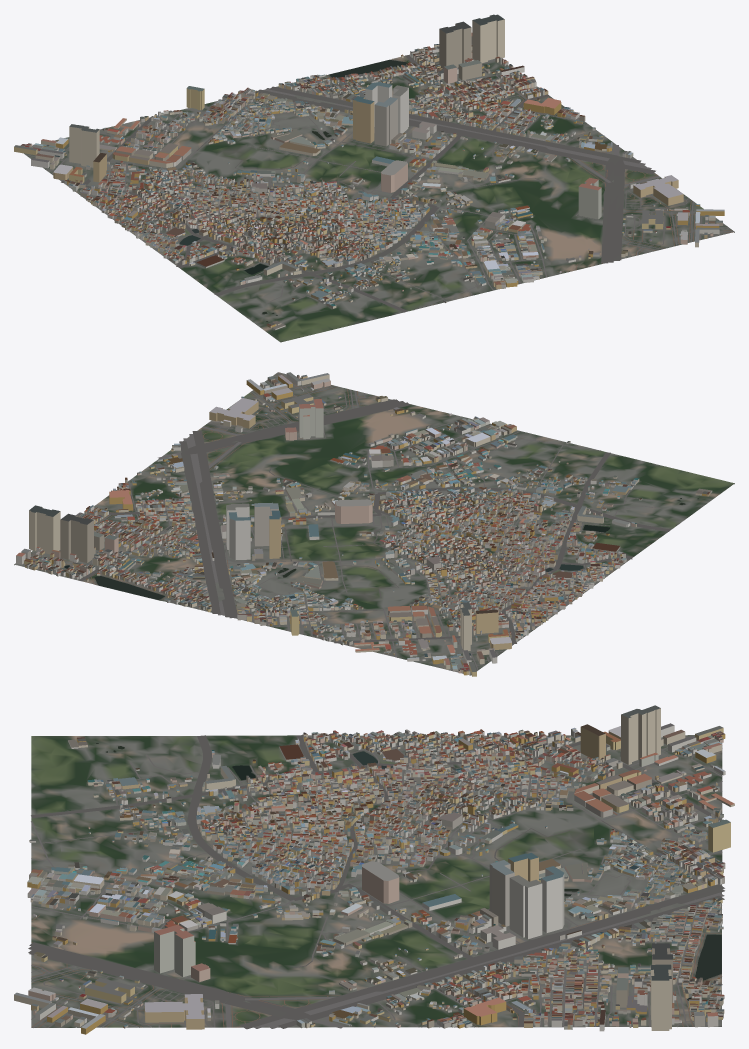
3 views of the same model, one above another, from view 1: azimuth 30°, elevation 25°; view 2: azimuth 150°, elevation 25°; view 3: azimuth 270°, elevation 25° (orthographic). The views are drawn at different scales.
Parts seen in each view (by area): view 1: buildings, ground, roads, water; view 2: buildings, ground, roads, water; view 3: buildings, ground, roads, water.
Part boxes in pixels (x1,y1,x2,y2): buildings: [14, 14, 724, 329]; ground: [23, 51, 734, 342]; roads: [25, 44, 734, 312]; water: [179, 60, 407, 321]; buildings: [16, 372, 712, 676]; ground: [14, 372, 734, 675]; roads: [22, 372, 670, 671]; water: [64, 498, 698, 599]; buildings: [14, 705, 734, 1034]; ground: [31, 735, 722, 1027]; roads: [28, 734, 724, 1029]; water: [96, 743, 721, 1000].
Size of the model in its own units: 1453 by 120 by 1463.
